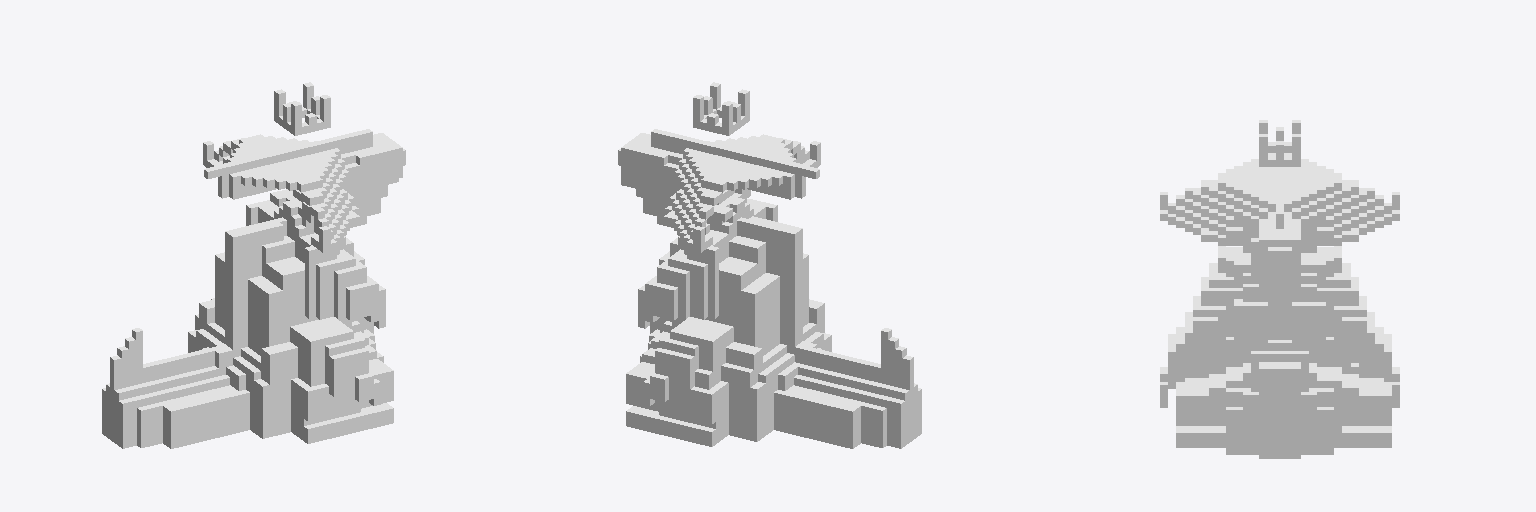
Rendered from snakeking-2.obj.
The picture shows the model from 3 angles: view 1: azimuth 30°, elevation 25°; view 2: azimuth 150°, elevation 25°; view 3: azimuth 270°, elevation 25°; orthographic projection.
Parts seen in each view (by area): view 1: object 1; view 2: object 1; view 3: object 1.
Boxes of the visible parts, x1=… form: object 1: x1=102, y1=82, x2=405, y2=448; object 1: x1=618, y1=82, x2=921, y2=448; object 1: x1=1160, y1=120, x2=1399, y2=458.
Bounding box in the file's own units: 4 × 4 × 2.9.